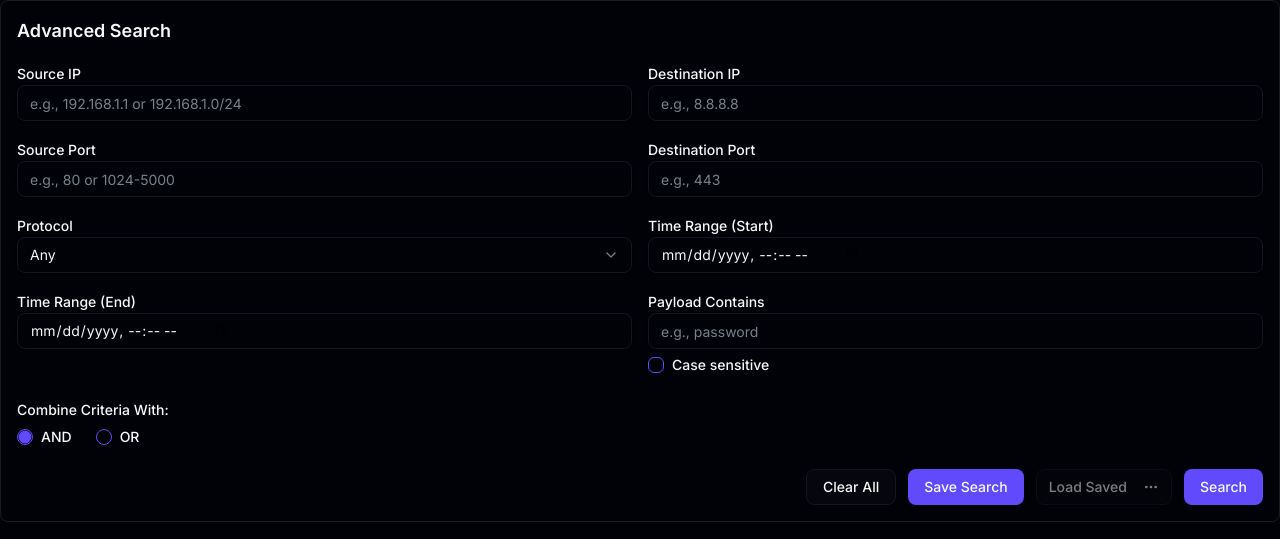
Test case: AdvancedSearchPanel › clears all fields when Clear All is clicked
Enter some data
Type "10.0.0.1" into the field labelled "Source IP".
click(324, 103); type("10.0.0.1")  # box [17, 85, 632, 121]
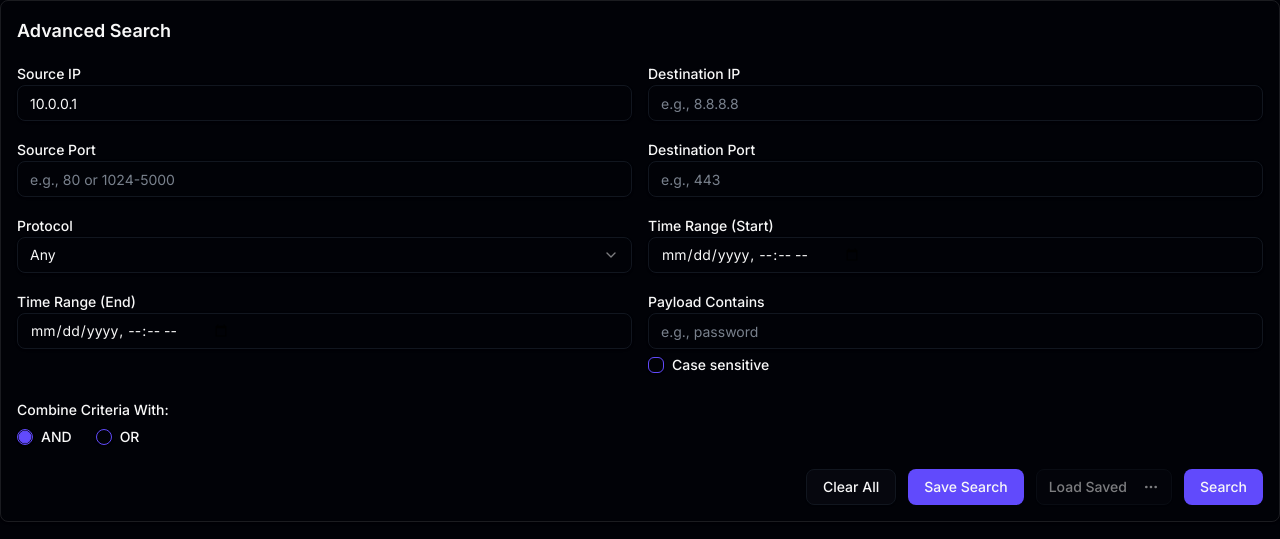
Click Clear
Click the button "Clear All".
click(851, 487)  # box [806, 469, 896, 505]
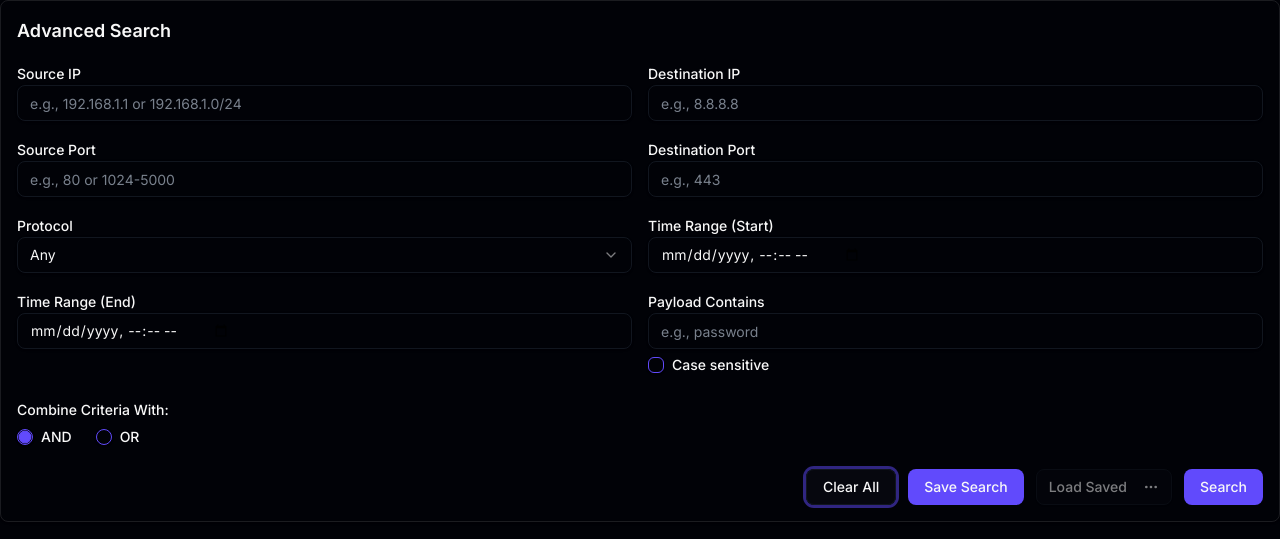
Expected: the field labelled "Source IP" is empty, [17, 85, 632, 121]
